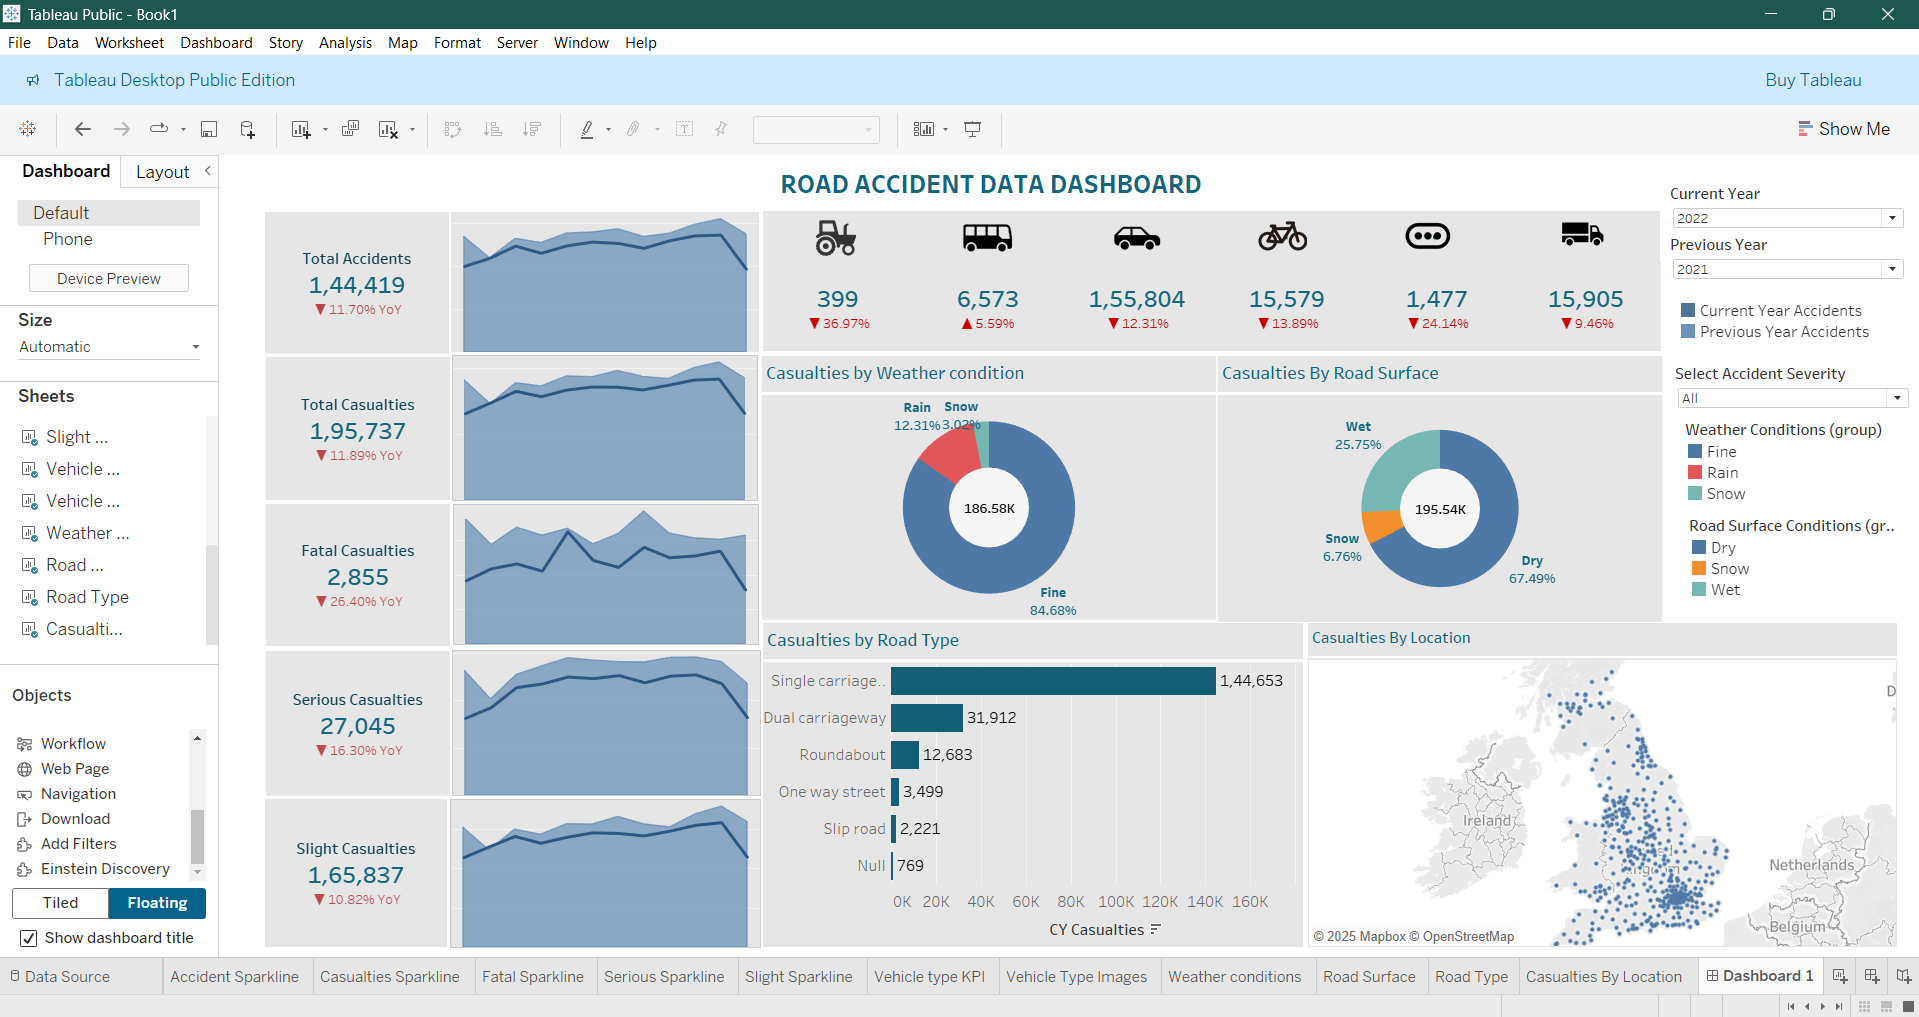

The dashboard page shown, as its layout file describes it:
{"tool":"tableau","page":{"name":"Dashboard 1","canvas":[1000,1000],"units":"permille","ordinal":0},"visuals":[{"type":"text","box":[297.1,13.7,314.1,42.5]},{"type":"parameter","param":"[Parameters].[Parameter 1]","box":[853.8,34.7,139.2,61.6]},{"type":"worksheet","title":"Vehicle Type Images","mark":"Shape","box":[320,69.9,527.6,66.2]},{"type":"image","param":"D:/Data Analysis/Project in DA/Tableau Road Accident/images/Bus.png","box":[436.5,69.9,52.9,66.2]},{"type":"image","param":"D:/Data Analysis/Project in DA/Tableau Road Accident/images/Bike.png","box":[611.2,69.9,45.9,61.2]},{"type":"image","param":"D:/Data Analysis/Project in DA/Tableau Road Accident/images/Van.png","box":[788.8,69.9,46.5,56.2]},{"type":"worksheet","title":"Total Accidents","mark":"Automatic","box":[27.1,71.2,108.2,177.3]},{"type":"worksheet","title":"Accident Sparkline","mark":"Automatic","rows":["CY Accidents (copy)_1128151769202180099","Calculation_1128151769201205250"],"cols":["Accident Date"],"box":[136.5,71.2,181.2,174.8]},{"type":"image","param":"D:/Data Analysis/Project in DA/Tableau Road Accident/images/other icon.png","box":[697.1,71.2,44.1,58.7]},{"type":"image","param":"D:/Data Analysis/Project in DA/Tableau Road Accident/images/Car.png","box":[525.3,72.4,64.1,62.4]},{"type":"image","param":"D:/Data Analysis/Project in DA/Tableau Road Accident/images/tractor.png","box":[350,74.9,48.2,52.4]},{"type":"parameter","param":"[Parameters].[Current Year (copy)_1128151769199611905]","box":[853.8,98.8,139.2,61.6]},{"type":"worksheet","title":"Vehicle type KPI","mark":"Automatic","box":[320.3,133.5,528.3,111.7]},{"type":"legend","title":"Accident Sparkline","param":"[federated.1ny4p1q03h6jvx137018a09gj1da].[:Measure Names]","box":[858.2,181,132.3,61.2]},{"type":"worksheet","title":"Casualties Sparkline","mark":"Automatic","rows":["CY Casualties (copy)_1128151769207808006","Calculation_1128151769206829061"],"cols":["Accident Date"],"box":[137.1,249.7,180,182.3]},{"type":"worksheet","title":"Weather conditions","mark":"Pie","rows":["Calculation_1128151769292750870","Calculation_1128151769292779544"],"box":[319.4,250.9,267.1,329.6]},{"type":"worksheet","title":"Road Surface","mark":"Pie","rows":["Calculation_1128151769292750870","Calculation_1128151769292779544"],"box":[587.6,250.9,261.2,332.1]},{"type":"worksheet","title":"Total Casualties","mark":"Automatic","box":[27.7,252.2,108.2,178.5]},{"type":"parameter","param":"[Parameters].[Parameter 2]","box":[856.5,259.7,139.4,61.2]},{"type":"legend","title":"Weather conditions","param":"[federated.1ny4p1q03h6jvx137018a09gj1da].[Weather Conditions (group)]","box":[862.5,329.9,121.9,109.1]},{"type":"worksheet","title":"Fatal Casualties","mark":"Automatic","box":[27.7,435.7,108.2,177.3]},{"type":"worksheet","title":"Fatal Sparkline","mark":"Automatic","rows":["CY Fatal Casualties (copy)_1128151769210691593","Calculation_1128151769209823240"],"cols":["Accident Date"],"box":[137.7,435.7,180,176]},{"type":"legend","title":"Road Surface","param":"[federated.1ny4p1q03h6jvx137018a09gj1da].[Road Surface Conditions (group)]","box":[864.7,449.4,121.8,108.6]},{"type":"worksheet","title":"Road Type","mark":"Automatic","rows":["Road_Type"],"cols":["Calculation_1128151769206829061"],"box":[320.3,584.1,317.7,404.4]},{"type":"worksheet","title":"Casualties By Location","mark":"Automatic","rows":["Latitude"],"cols":["Longitude"],"box":[640.6,584.1,346.4,404.4]},{"type":"worksheet","title":"Serious Sparkline","mark":"Automatic","rows":["PY Fatal Casualties (copy)_1128151769212960782","CY Fatal Casualties (copy)_1128151769212194827"],"cols":["Accident Date"],"box":[137.1,618,181.8,182.3]},{"type":"worksheet","title":"Serious Casualties","mark":"Automatic","box":[27.7,619.2,108.2,181]},{"type":"worksheet","title":"Slight Casualties","mark":"Automatic","box":[27.1,804,107.1,184.8]},{"type":"worksheet","title":"Slight Sparkline","mark":"Automatic","rows":["PY Serious Casualties  (copy)_1128151769214890002","CY Serious Casualties (copy)_1128151769214517265"],"cols":["Accident Date"],"box":[135.9,804,182.9,186]}]}

Visuals, with their boxes on the dashboard's canvas, which has no fixed pixel size, in thousandths of its width and height (x1, y1, x2, y2). These are canvas units, not pixel positions in the 1919x1017 screenshot, which may show the page scaled, cropped or inside an application window:
text: [297, 14, 611, 56]
parameter: [854, 35, 993, 96]
"Vehicle Type Images" worksheet (Shape marks): [320, 70, 848, 136]
image: [436, 70, 489, 136]
image: [611, 70, 657, 131]
image: [789, 70, 835, 126]
"Total Accidents" worksheet: [27, 71, 135, 248]
"Accident Sparkline" worksheet: [136, 71, 318, 246]
image: [697, 71, 741, 130]
image: [525, 72, 589, 135]
image: [350, 75, 398, 127]
parameter: [854, 99, 993, 160]
"Vehicle type KPI" worksheet: [320, 134, 849, 245]
"Accident Sparkline" legend: [858, 181, 990, 242]
"Casualties Sparkline" worksheet: [137, 250, 317, 432]
"Weather conditions" worksheet (Pie marks): [319, 251, 586, 580]
"Road Surface" worksheet (Pie marks): [588, 251, 849, 583]
"Total Casualties" worksheet: [28, 252, 136, 431]
parameter: [856, 260, 996, 321]
"Weather conditions" legend: [862, 330, 984, 439]
"Fatal Casualties" worksheet: [28, 436, 136, 613]
"Fatal Sparkline" worksheet: [138, 436, 318, 612]
"Road Surface" legend: [865, 449, 986, 558]
"Road Type" worksheet: [320, 584, 638, 988]
"Casualties By Location" worksheet: [641, 584, 987, 988]
"Serious Sparkline" worksheet: [137, 618, 319, 800]
"Serious Casualties" worksheet: [28, 619, 136, 800]
"Slight Casualties" worksheet: [27, 804, 134, 989]
"Slight Sparkline" worksheet: [136, 804, 319, 990]
